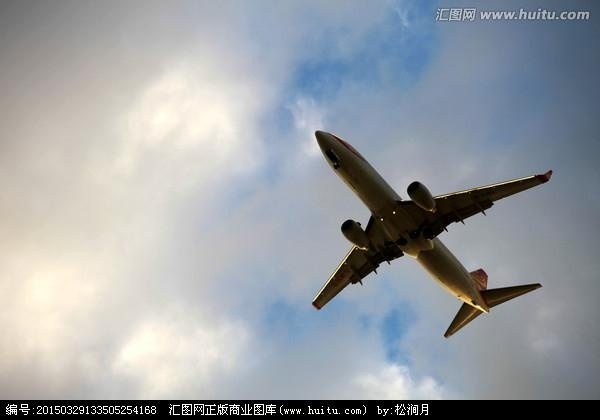airplane: (301, 128, 558, 336)
